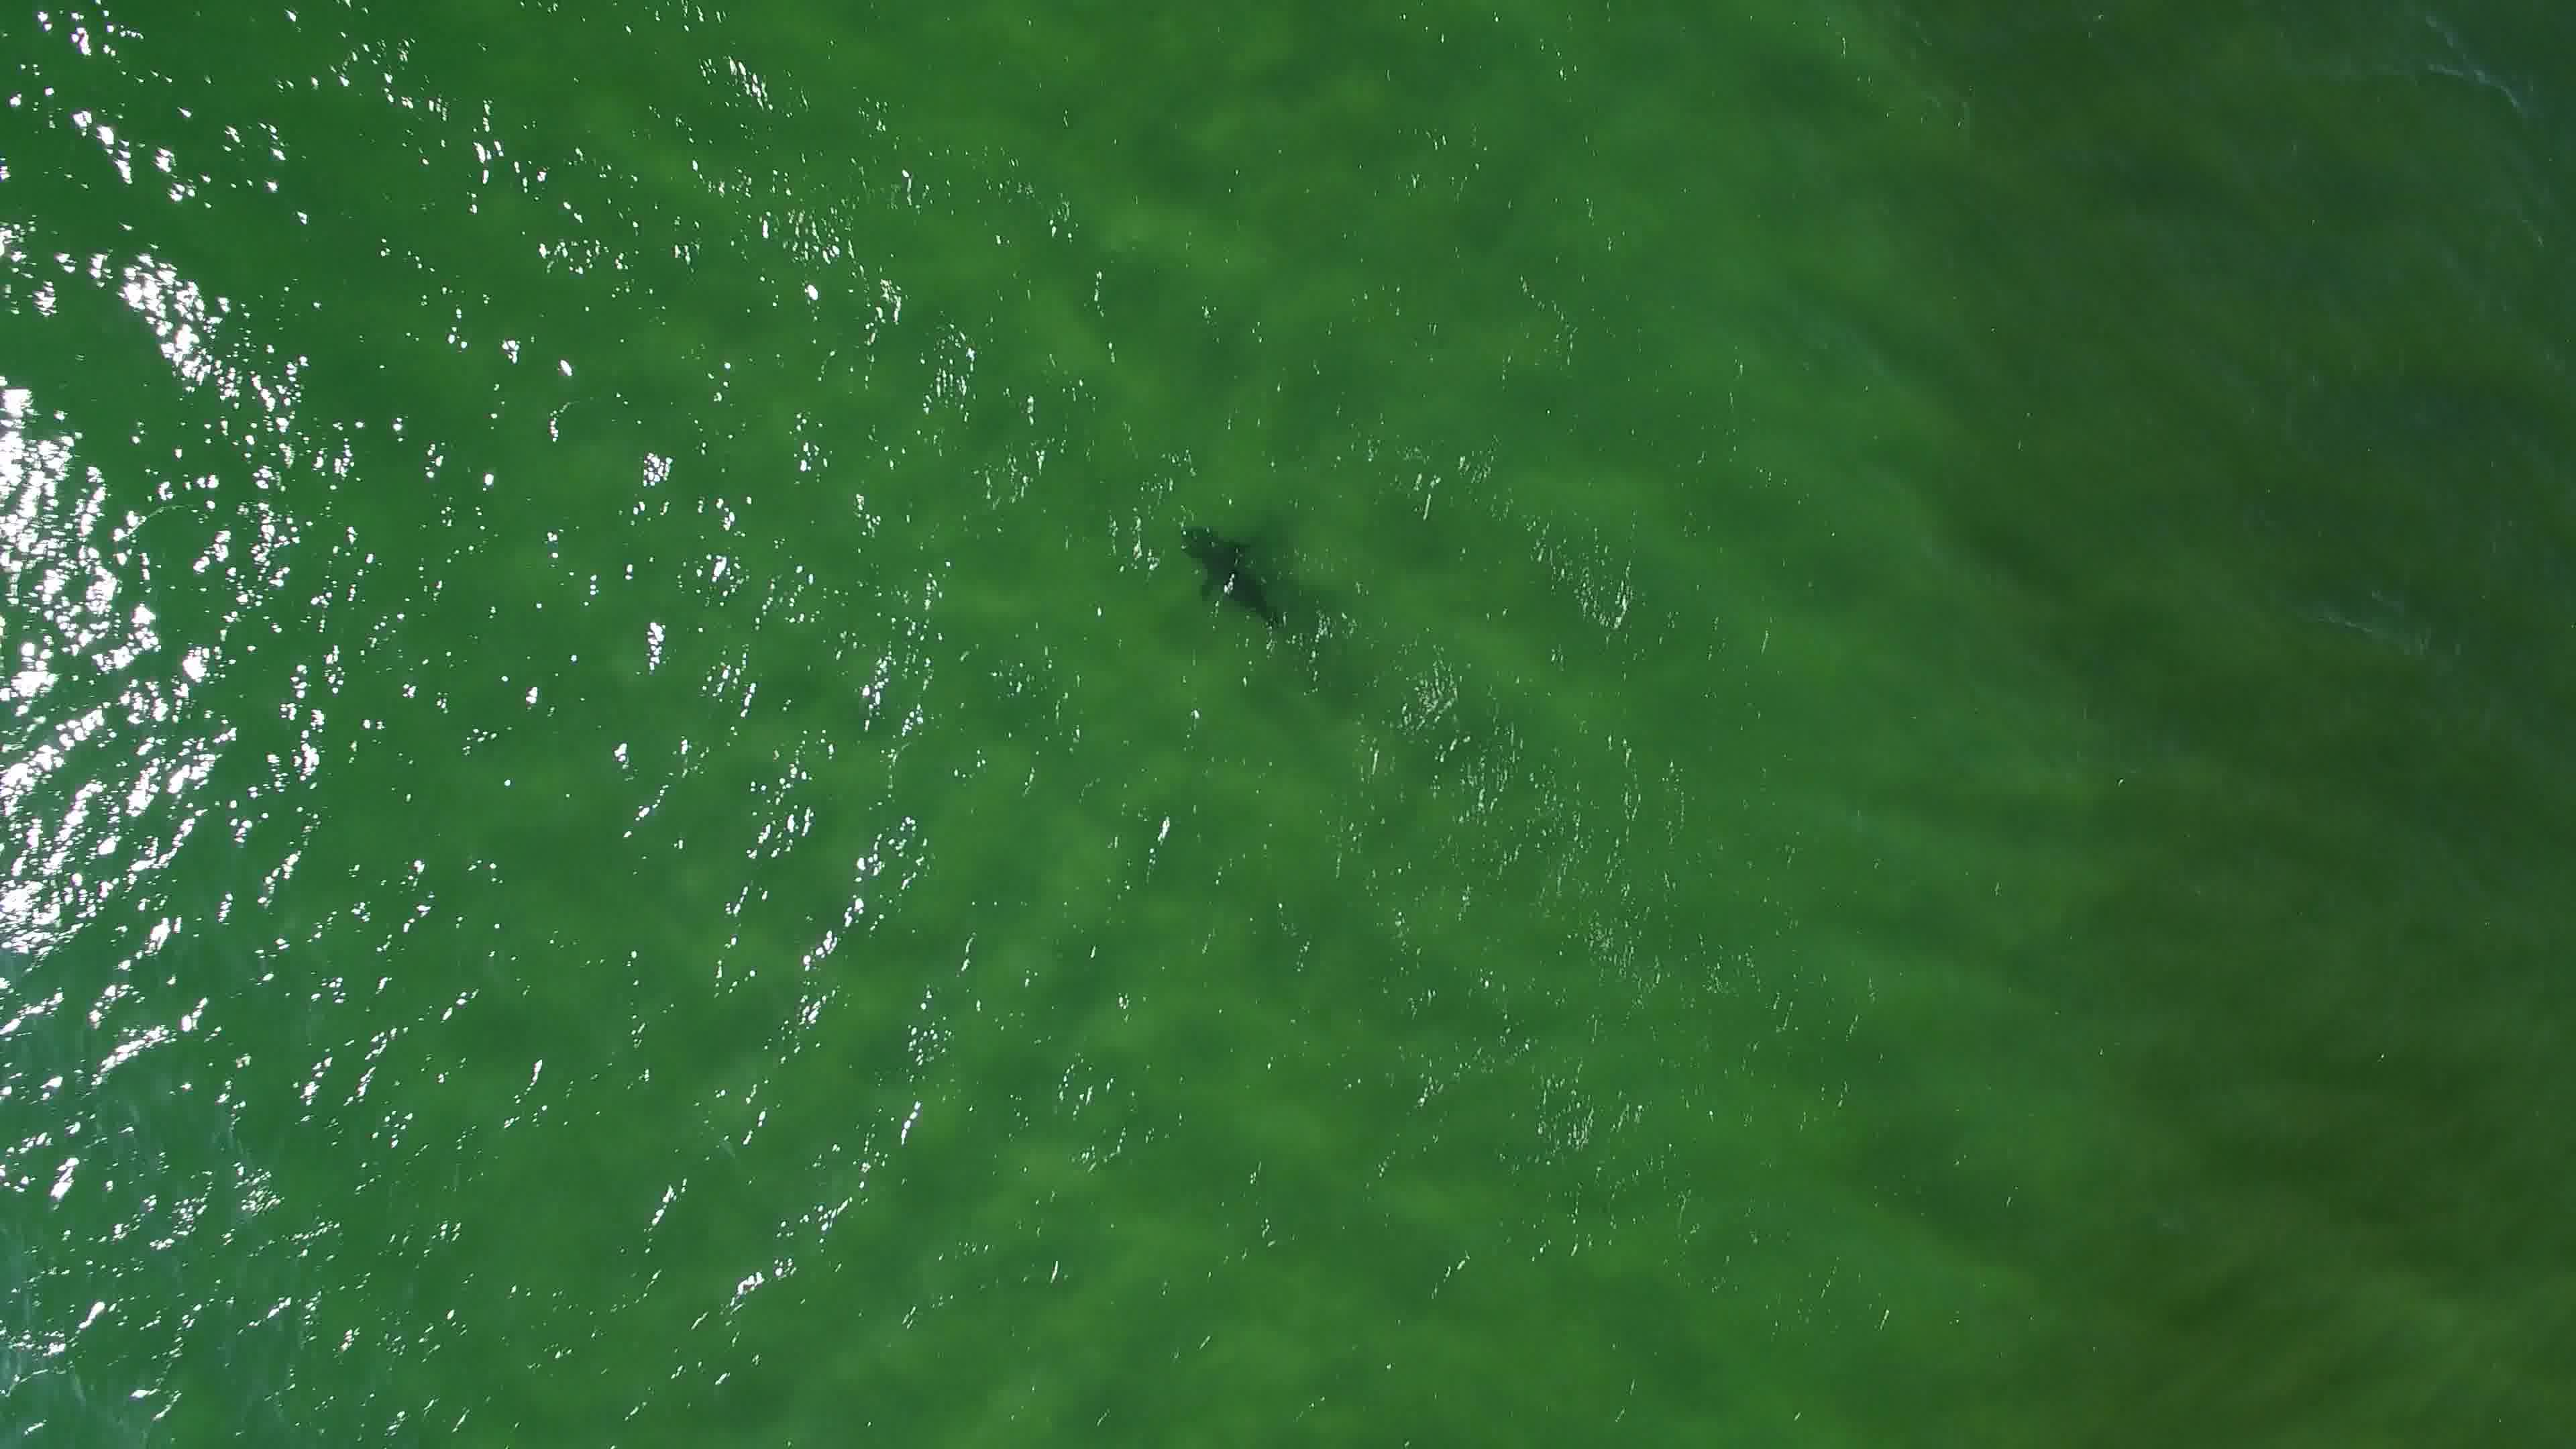shark: (1173, 524, 1293, 635)
